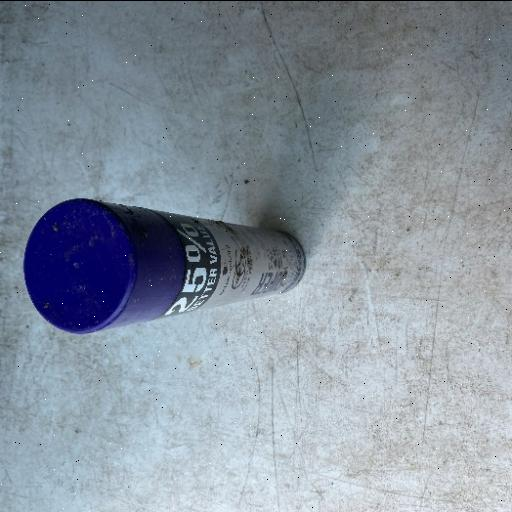Metal: (21, 196, 307, 336)
